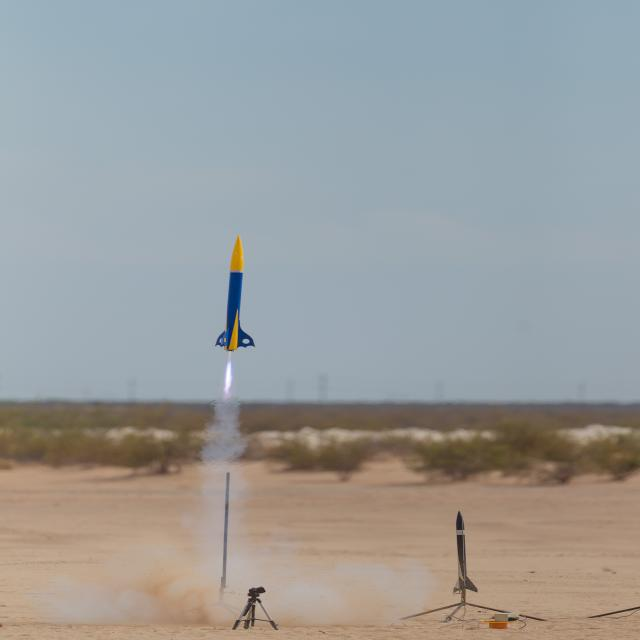Rocket: (214, 234, 256, 353), (452, 510, 478, 594)
